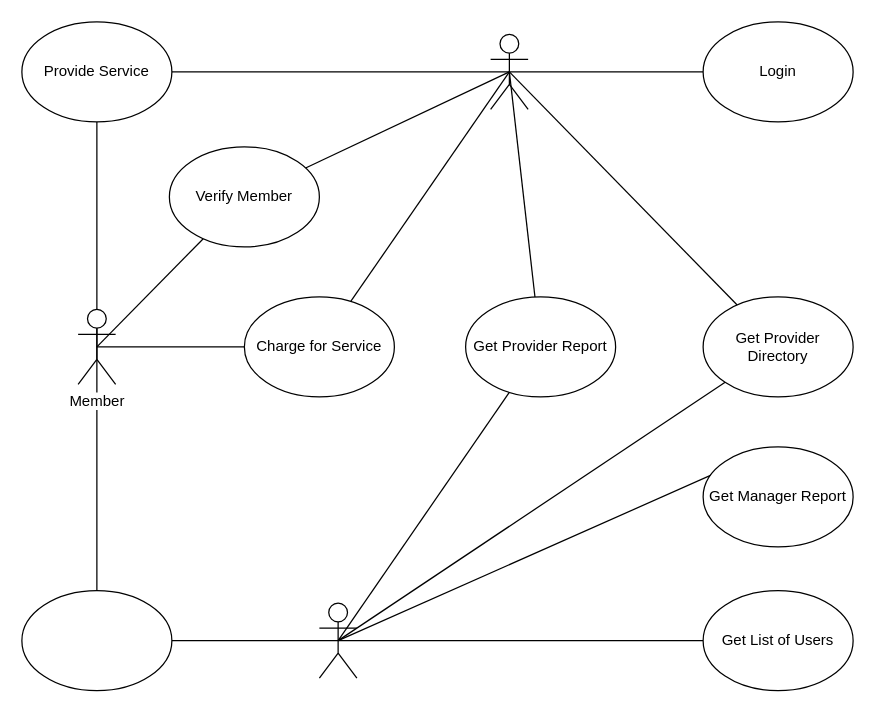
Some shapes in this 875 by 726 pixel diagram are drawn without their labels. Here are the shapes that lost their labels. From the top down, the box of each, then its label:
(489, 33, 528, 109): Provider
(21, 589, 172, 691): Get Member Report
(318, 602, 357, 678): Manager
